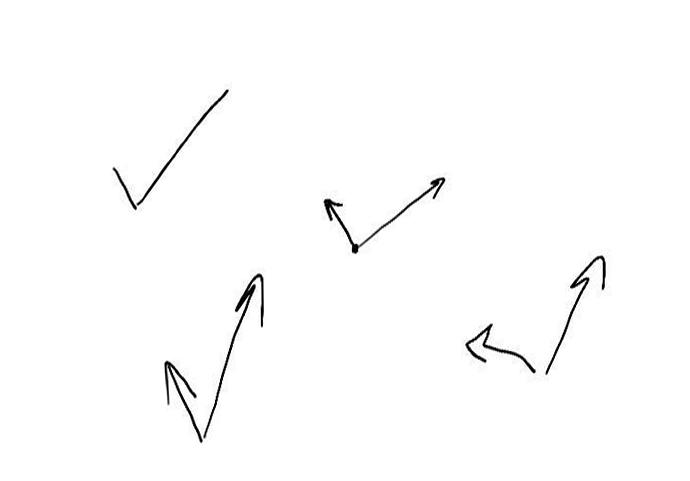arrow: (206, 272, 265, 435), (549, 252, 609, 370), (360, 176, 446, 242), (466, 321, 537, 374), (161, 360, 203, 442), (323, 196, 354, 249)
arrownohead: (138, 87, 231, 203), (112, 166, 138, 210)
